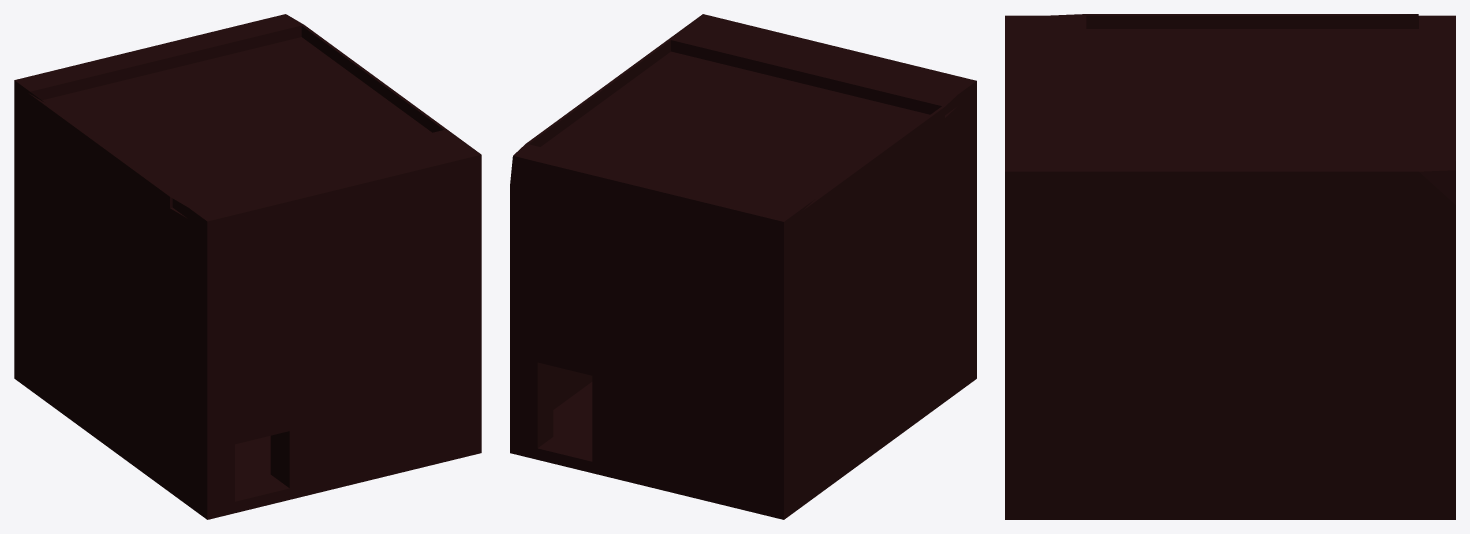
File: ModelTest.FBX
The picture shows the model from 3 angles, left to right: view 1: azimuth 30°, elevation 25°; view 2: azimuth 150°, elevation 25°; view 3: azimuth 270°, elevation 25°; orthographic projection. The views are drawn at different scales.
Visible parts, largest first — view 1: Box001; view 2: Box001; view 3: Box001.
Boxes of the visible parts, x1,y1,x2,y2 form: Box001: (14, 14, 481, 519); Box001: (510, 14, 976, 519); Box001: (1005, 14, 1455, 519).
Bounding box in the file's own units: 50.5 × 52 × 61.
